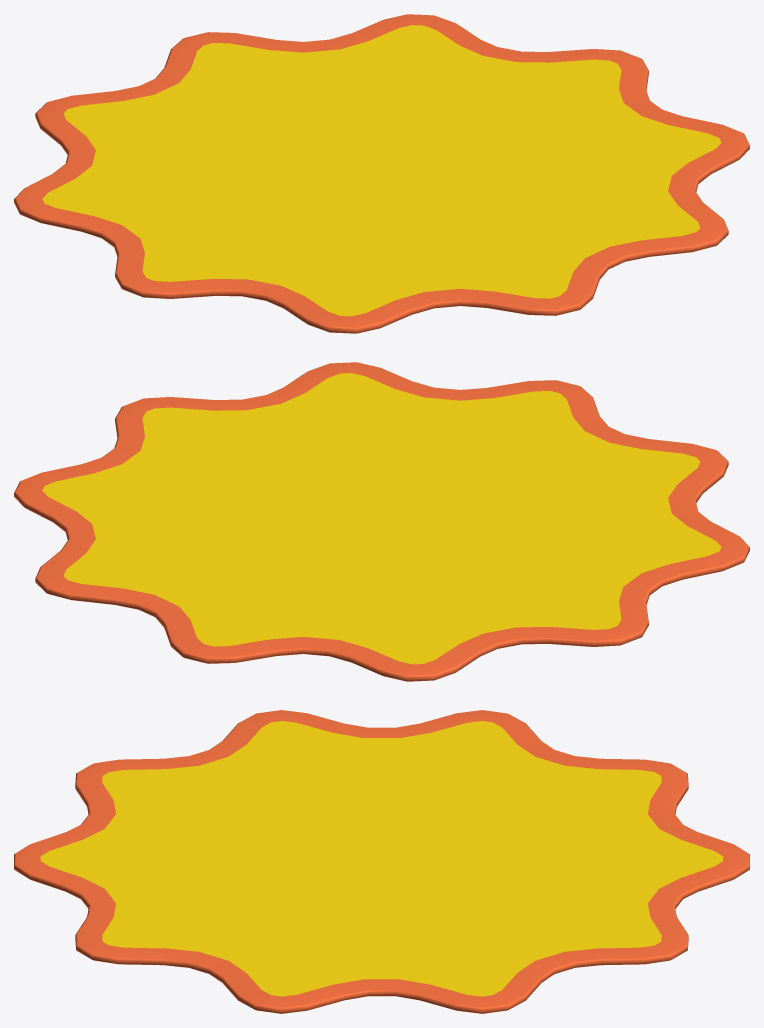
File: Store_18_Napkin_1.glb
The picture shows the model from 3 angles, top to bottom: view 1: azimuth 30°, elevation 25°; view 2: azimuth 150°, elevation 25°; view 3: azimuth 270°, elevation 25°; orthographic projection.
Visible parts, largest first — view 1: Store_18_Napkin_1; view 2: Store_18_Napkin_1; view 3: Store_18_Napkin_1.
Boxes of the visible parts, box(x1,y1,x2,y2) form: Store_18_Napkin_1: box(14, 14, 749, 333); Store_18_Napkin_1: box(14, 362, 749, 681); Store_18_Napkin_1: box(14, 710, 749, 1013).
Size of the model in its own units: 0.8614 by 0.00859 by 0.8947.
Materials: 1 (1 with a texture image).
